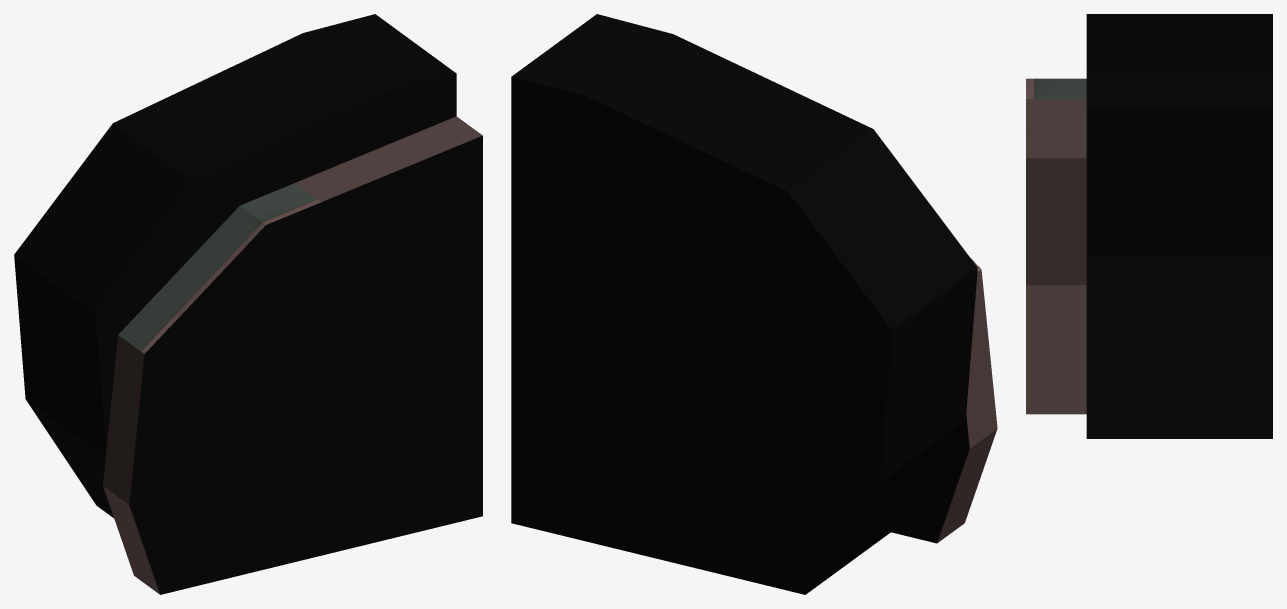
File: section-9.obj
The picture shows the model from 3 angles, left to right: view 1: azimuth 30°, elevation 25°; view 2: azimuth 150°, elevation 25°; view 3: azimuth 270°, elevation 25°; orthographic projection. The views are drawn at different scales.
Bounding box in the file's own units: 0.95 × 1.06 × 0.49.
